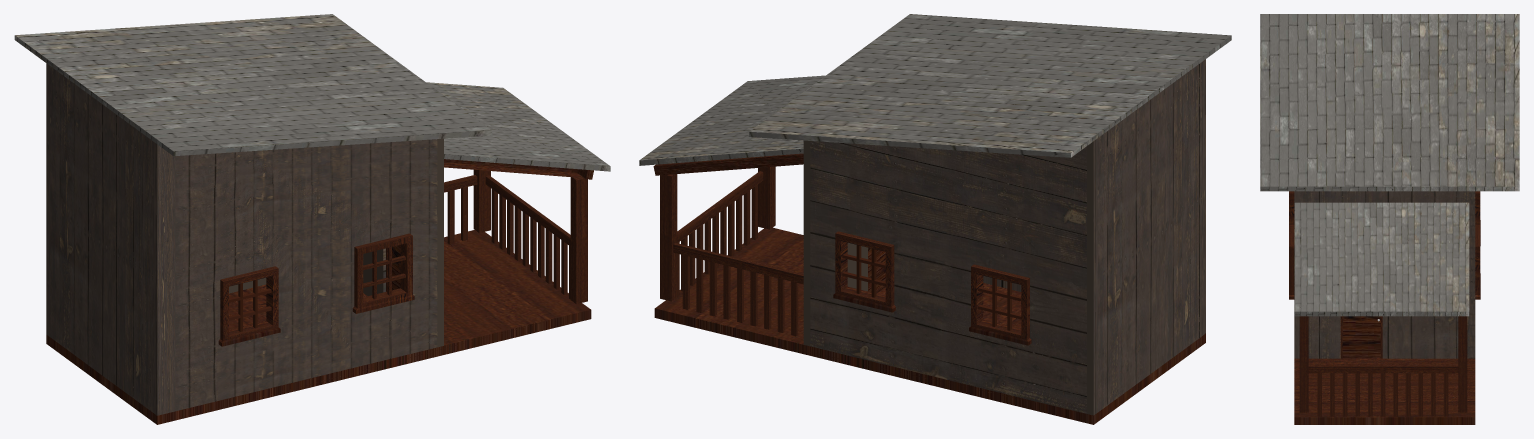
Rendered from SM_Bld_Farmhouse_02.fbx.
3 renders of one model, left to right at view 1: azimuth 30°, elevation 25°; view 2: azimuth 150°, elevation 25°; view 3: azimuth 270°, elevation 25°, orthographic. The views are drawn at different scales.
Visible parts, largest first — view 1: Plane, Side Roof.002, Plane.001, Side Roof.001, Small Window, Small Window.002, Post.008, Ridge Support.001, Cube, Post.006; view 2: Plane, Side Roof.002, Plane.001, Side Roof.001, Small Window.001, Small Window.003, Post.006, Ridge Support.001, Cube.012, Cube, Post.008; view 3: Side Roof.002, Side Roof.001, Plane.001, Plane, Cube.037, Cube, Post.006, Post.008, Small Window, Small Window.001, Cube.003, Cube.006 (+2 smaller).
Boxes of the visible parts, <box> form: Plane: <box>46,63,443,415</box>; Side Roof.002: <box>14,14,492,156</box>; Plane.001: <box>46,230,591,424</box>; Side Roof.001: <box>426,82,610,171</box>; Small Window: <box>352,233,414,313</box>; Small Window.002: <box>218,266,280,346</box>; Post.008: <box>570,174,587,303</box>; Ridge Support.001: <box>444,159,593,179</box>; Cube: <box>485,175,570,246</box>; Post.006: <box>473,169,490,232</box>; Plane: <box>803,59,1205,415</box>; Side Roof.002: <box>748,14,1231,157</box>; Plane.001: <box>654,227,1205,424</box>; Side Roof.001: <box>639,75,825,165</box>; Small Window.001: <box>833,231,895,312</box>; Small Window.003: <box>969,264,1031,345</box>; Post.006: <box>660,174,677,301</box>; Ridge Support.001: <box>653,153,803,175</box>; Cube.012: <box>673,243,803,284</box>; Cube: <box>677,171,763,242</box>; Post.008: <box>758,166,775,229</box>; Side Roof.002: <box>1260,14,1519,191</box>; Side Roof.001: <box>1294,202,1469,316</box>; Plane.001: <box>1294,316,1475,424</box>; Plane: <box>1294,191,1475,358</box>; Cube.037: <box>1341,316,1382,358</box>; Cube: <box>1308,365,1458,373</box>; Post.006: <box>1458,316,1467,412</box>; Post.008: <box>1299,316,1308,412</box>; Small Window: <box>1289,224,1294,299</box>; Small Window.001: <box>1475,224,1480,299</box>; Cube.003: <box>1342,373,1347,416</box>; Cube.006: <box>1380,373,1385,416</box>.
Bounding box in the file's own units: 1024 × 619 × 616.
